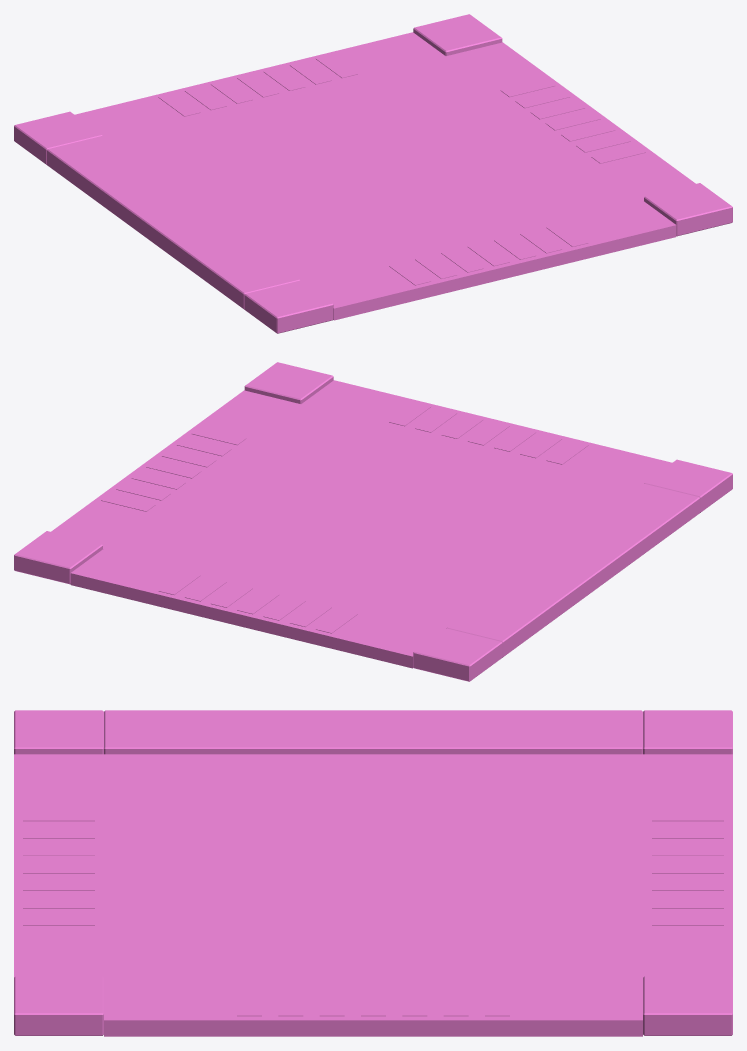
File: Road_T.fbx
3 views of the same model, one above another, from view 1: azimuth 30°, elevation 25°; view 2: azimuth 150°, elevation 25°; view 3: azimuth 270°, elevation 25° (orthographic). The views are drawn at different scales.
Visible parts, largest first — view 1: Tile; view 2: Tile; view 3: Tile.
Boxes of the visible parts, bbox=[...] form: Tile: bbox=[14, 14, 732, 333]; Tile: bbox=[14, 362, 732, 681]; Tile: bbox=[14, 710, 732, 1036].
Size of the model in its own units: 40 by 1.4 by 40.
Materials: 1 (1 with a texture image).
